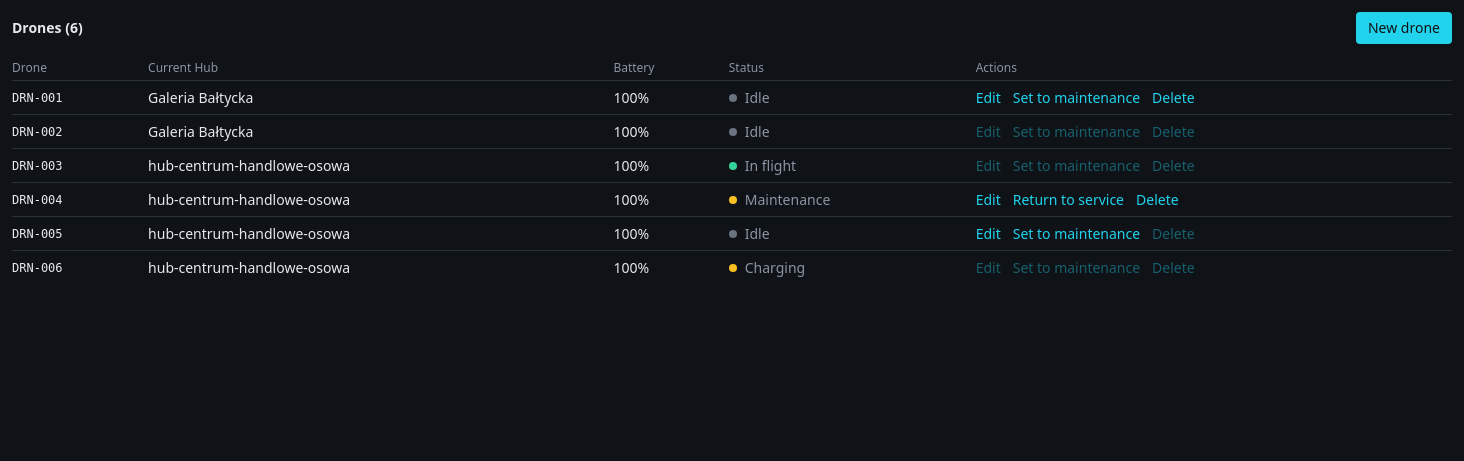
DronesManager › sends one create request however often the button is clicked
What coordinates should you click on to do the following:
click the button "New drone"
I would click on:
 (1404, 28)
Its box is [1356,12,1452,44].
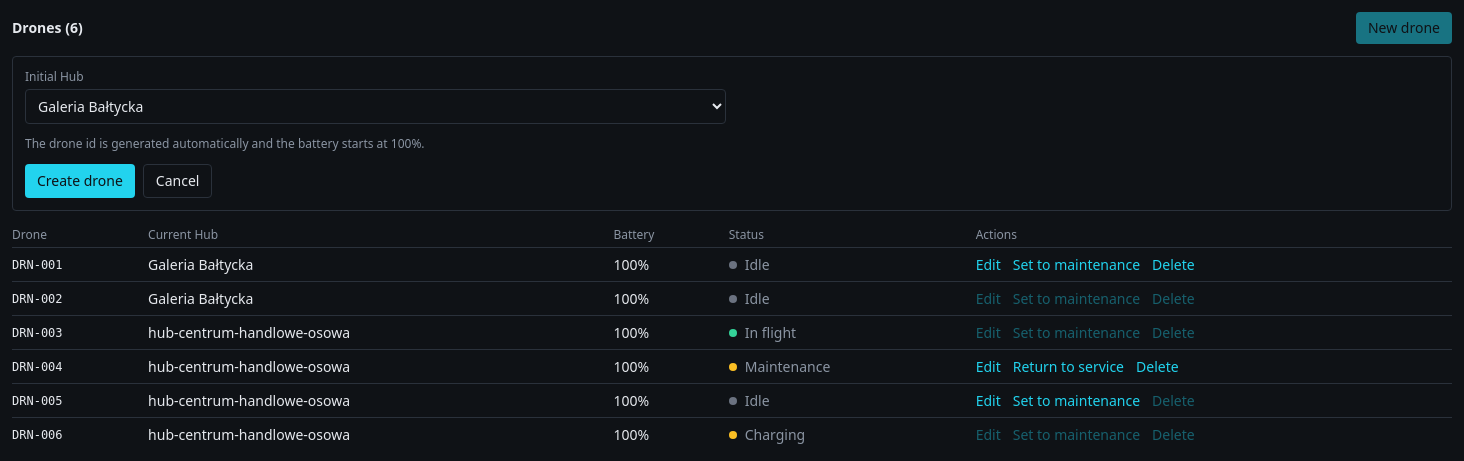
What coordinates should you click on to do the following:
click the button "Create drone"
I would click on:
 (80, 181)
Its box is [25,164,135,198].
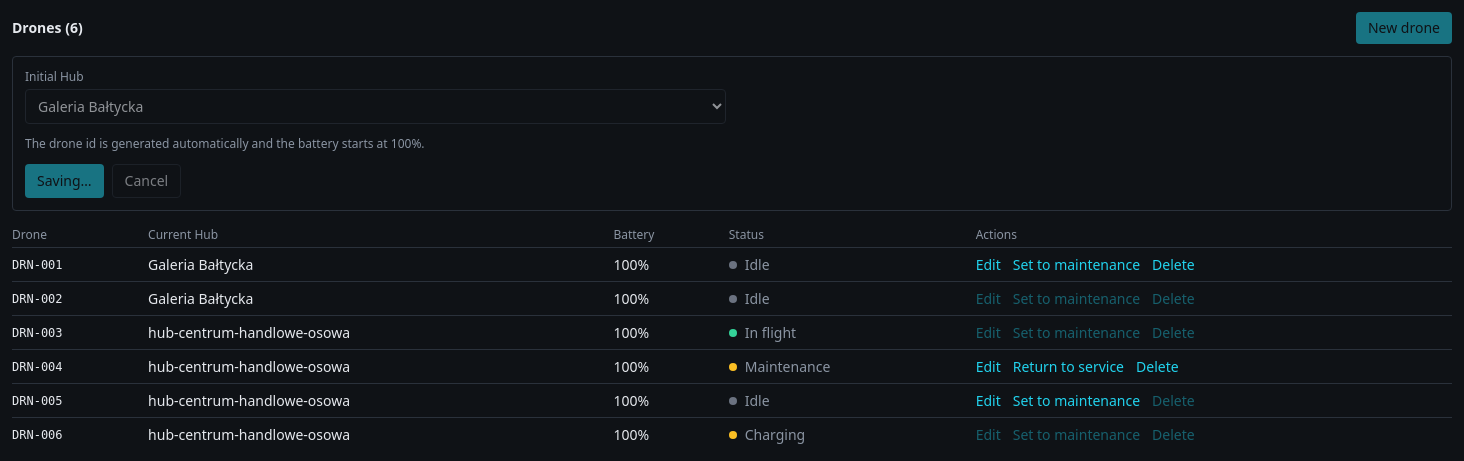
What coordinates should you click on to do the following:
click the button named "Create drone"
I would click on:
 (64, 181)
Its box is [25,164,104,198].
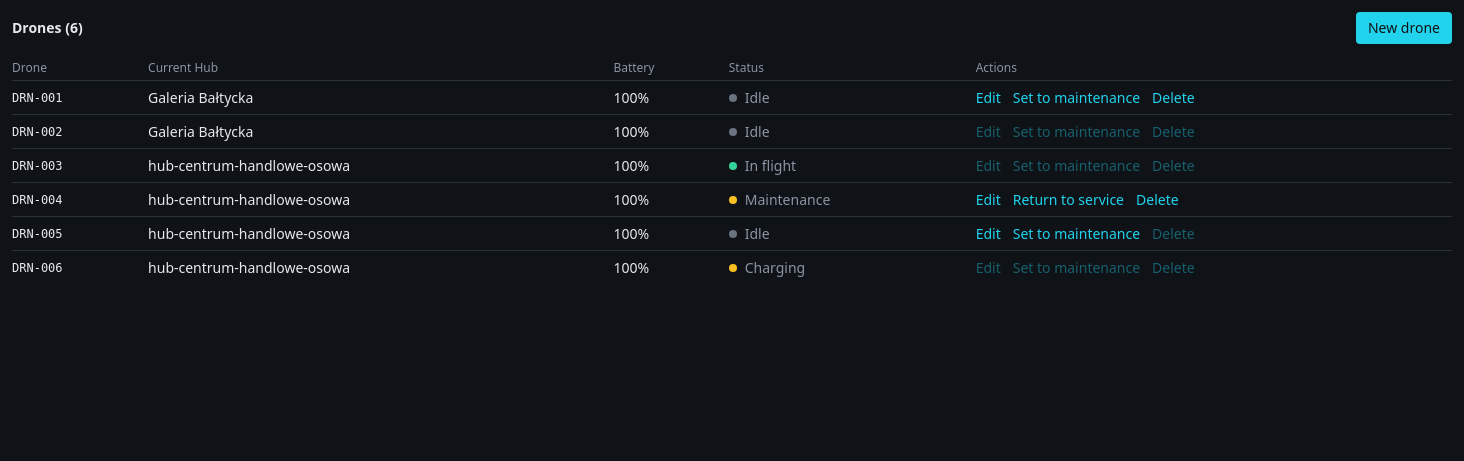
Result: the button "Saving…" is gone
